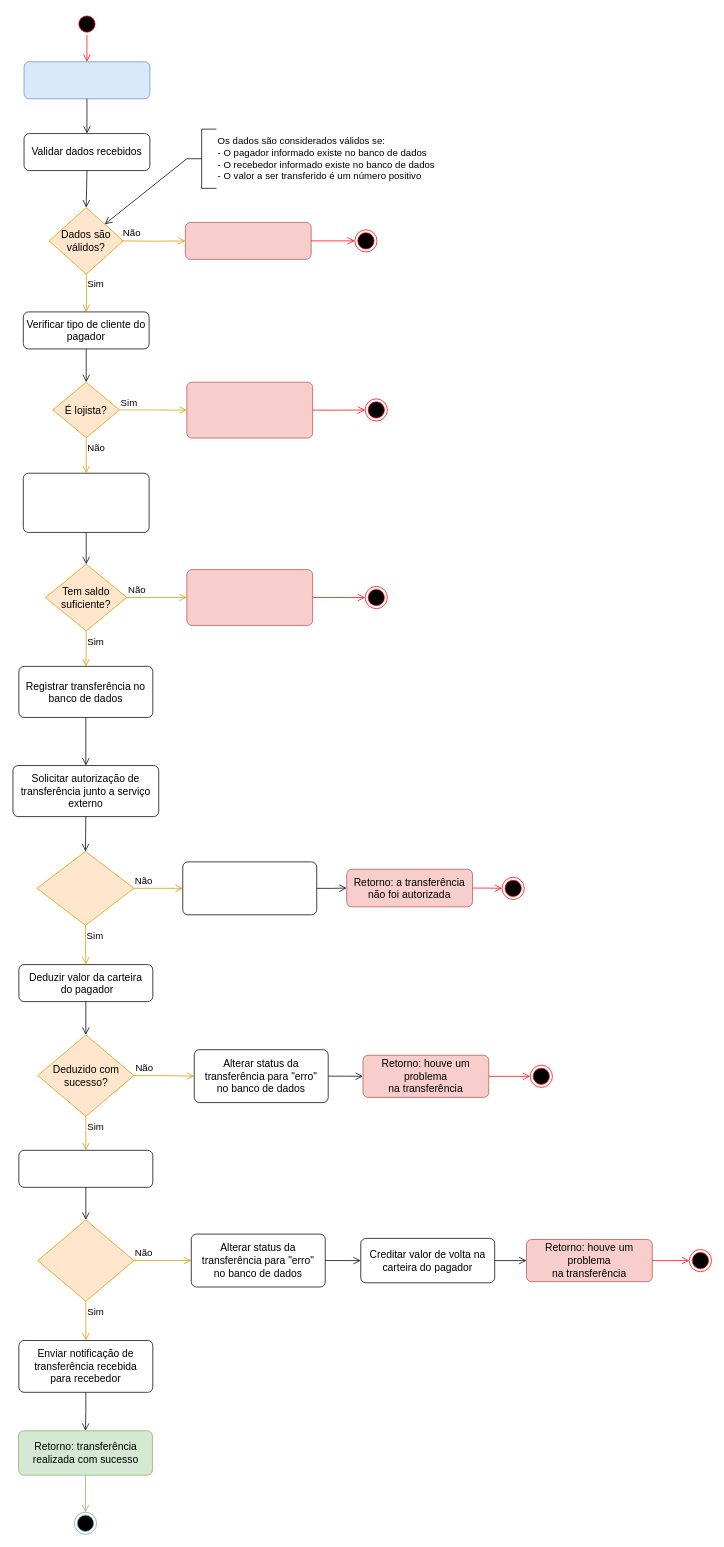
This 724x1547 diagram has some shape labels left out. The shapes that lost their labels are listed below. From the top down, each one's box as (x1, y1, x2, y2) in pixels, then its label:
(23, 61, 150, 99): Transferência solicitada
(185, 222, 311, 259): Retorno: mensagens de erro de validação
(186, 381, 313, 438): Retorno: lojistas não podem efetuar transferências, apenas recebê-las
(23, 472, 149, 532): Verificar saldo necessário para transferência na carteira do pagador
(186, 569, 313, 625): Retorno: o pagador não possui saldo suficiente para realizar esta transferência
(36, 851, 134, 925): Está autorizado?
(182, 861, 317, 915): Alterar status da transferência para "não autorizado" no banco de dados
(18, 1150, 153, 1187): Creditar valor na carteira do recebedor
(37, 1219, 134, 1301): Creditado com sucesso?
